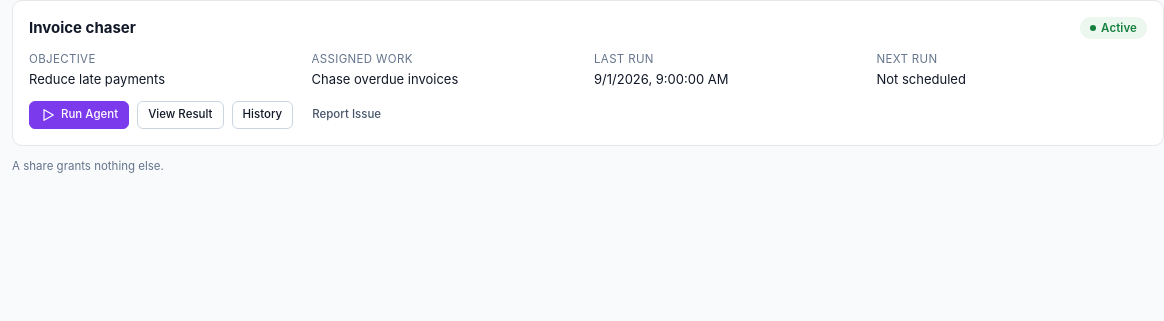
Test: MyEngineAgents › lists every run under History
Click the button with test id "operator-history": (262, 114) [232,100,293,128]
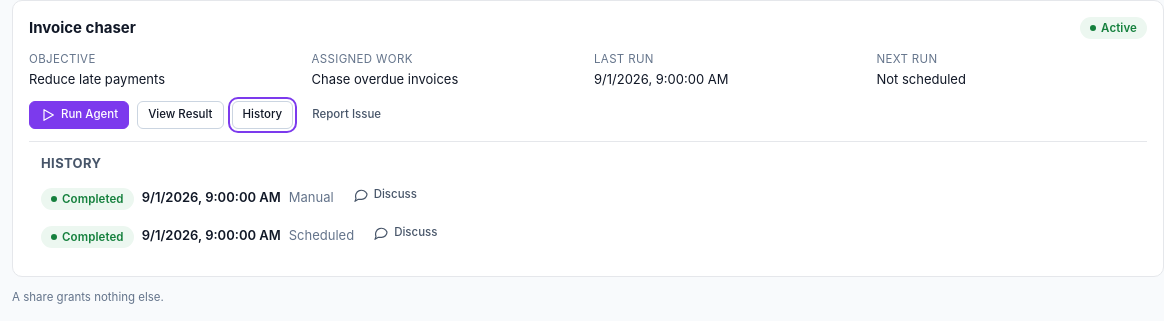
Check: the number of list items is 2, box [41,180,428,210]; [41,218,448,248]
